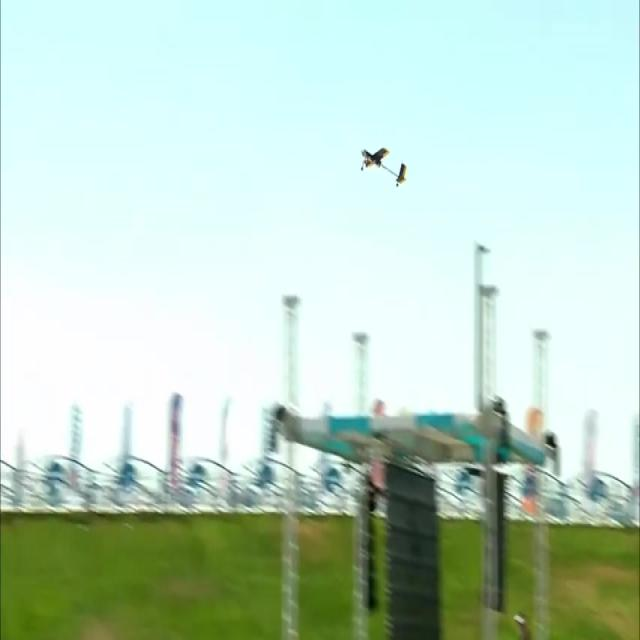iha: (360, 146, 408, 188)
